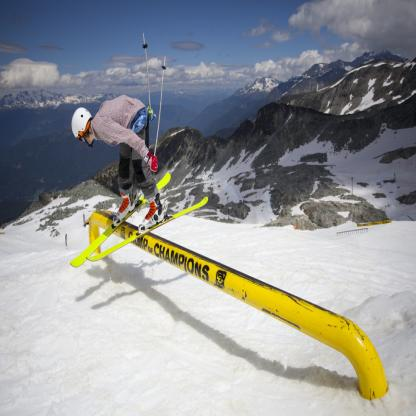Helmet: (68, 103, 94, 146)
